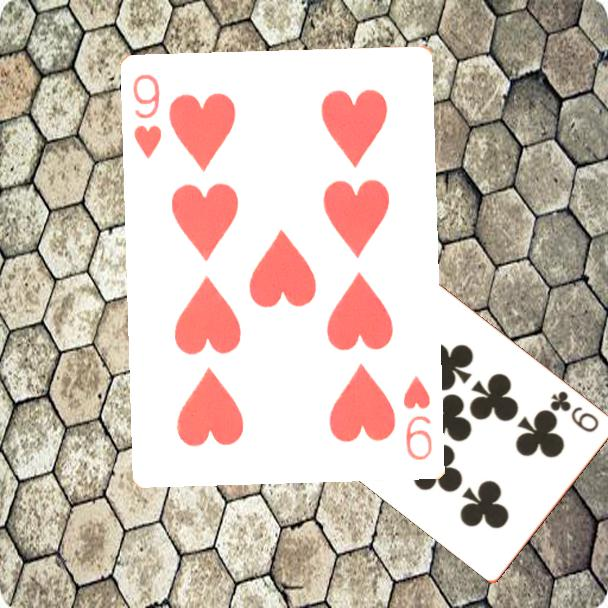c09: (547, 387, 602, 435)
h09: (400, 372, 436, 463), (130, 71, 165, 162)
